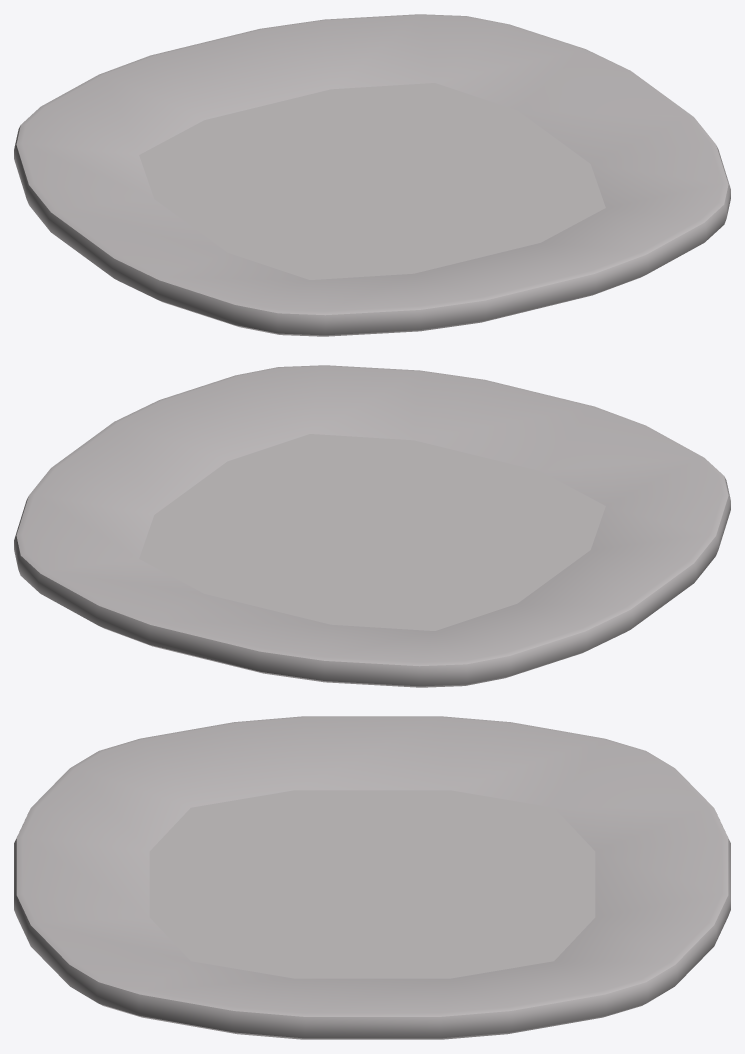
The model's file is plate.glb.
3 views of the same model, one above another, from view 1: azimuth 30°, elevation 25°; view 2: azimuth 150°, elevation 25°; view 3: azimuth 270°, elevation 25° (orthographic). The views are drawn at different scales.
Parts seen in each view (by area): view 1: RecCenter_Cafe_Plate_LOD0; view 2: RecCenter_Cafe_Plate_LOD0; view 3: RecCenter_Cafe_Plate_LOD0.
Part boxes in pixels (<box>): RecCenter_Cafe_Plate_LOD0: <box>14,14,730,336</box>; RecCenter_Cafe_Plate_LOD0: <box>14,365,730,687</box>; RecCenter_Cafe_Plate_LOD0: <box>14,716,730,1039</box>.
Bounding box in the file's own units: 0.3031 × 0.0282 × 0.3031.
1 material, 1 textured.
